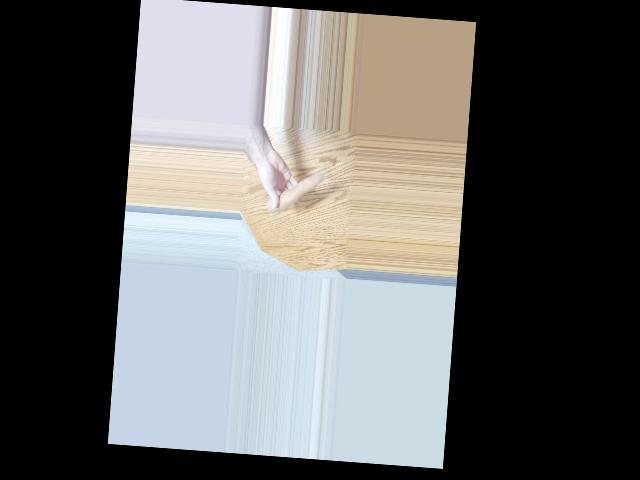sweet_potato: (266, 167, 324, 213)
